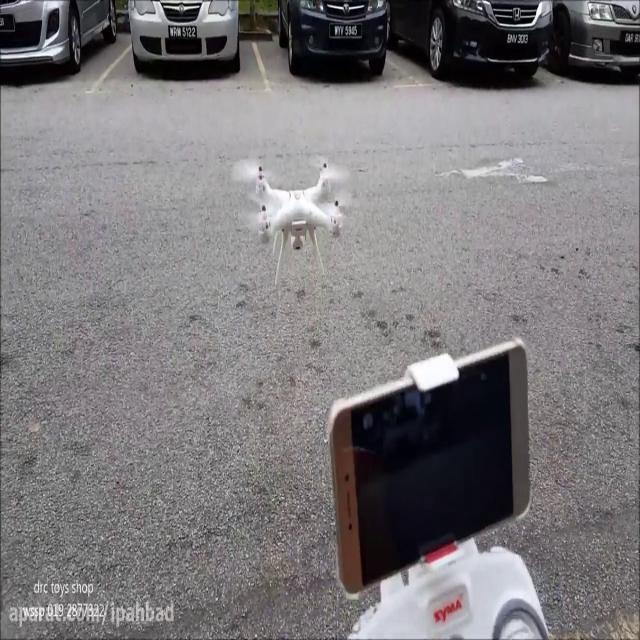drone: (232, 151, 356, 289)
